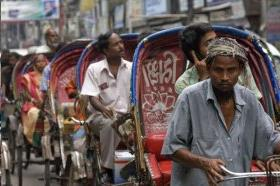Rickshaw: (136, 27, 277, 174), (75, 27, 152, 175), (47, 34, 96, 171), (12, 50, 51, 160)
